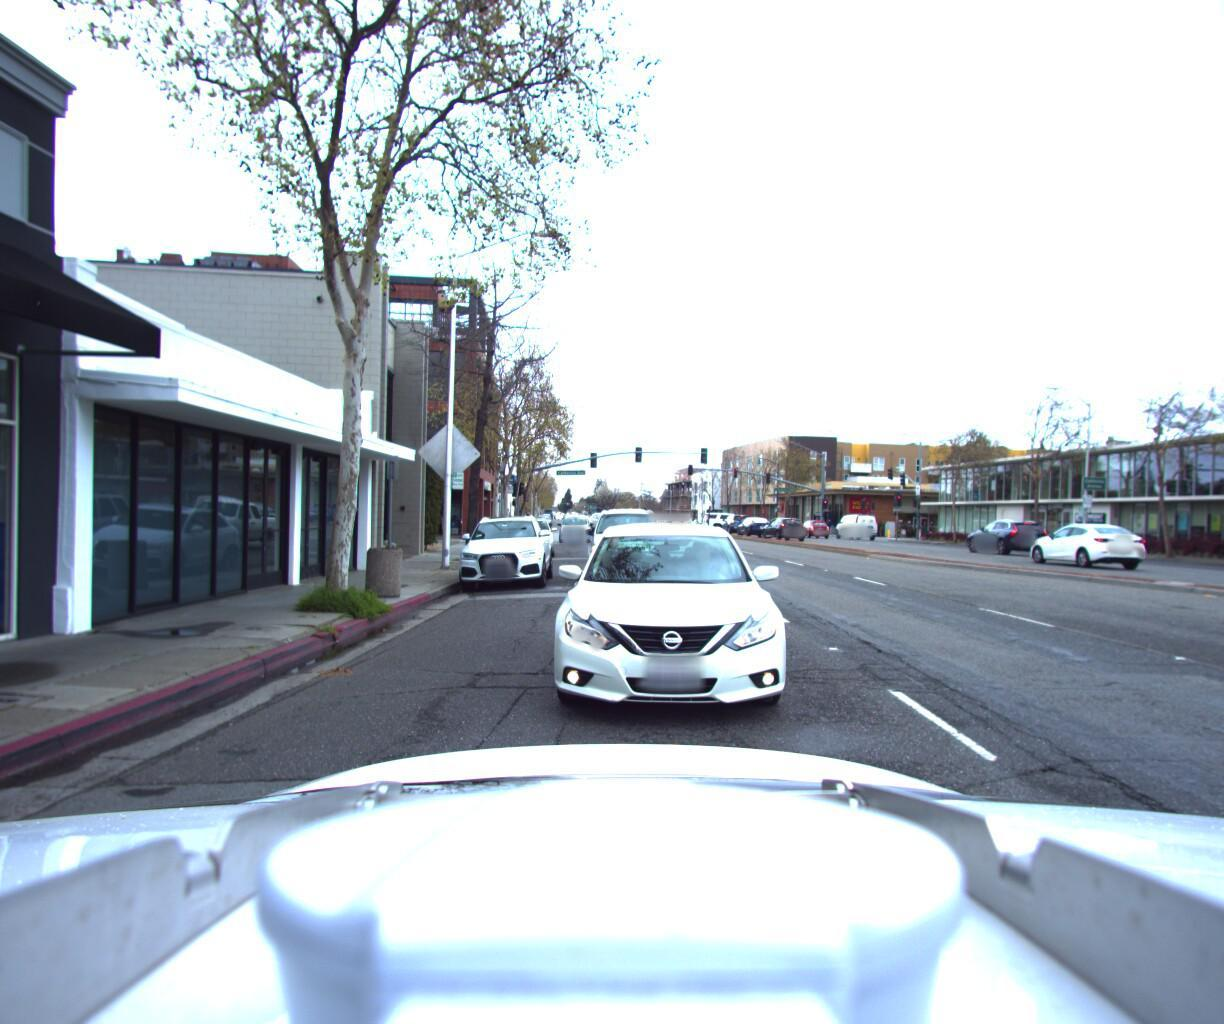car: (529, 518, 804, 734), (456, 511, 554, 597), (582, 510, 669, 596), (1012, 526, 1136, 576), (956, 523, 1040, 562), (508, 519, 558, 565), (706, 516, 769, 540), (756, 522, 807, 550), (835, 518, 880, 544), (553, 518, 589, 549), (582, 517, 627, 541), (719, 517, 755, 543), (735, 520, 776, 542), (797, 524, 833, 544)
